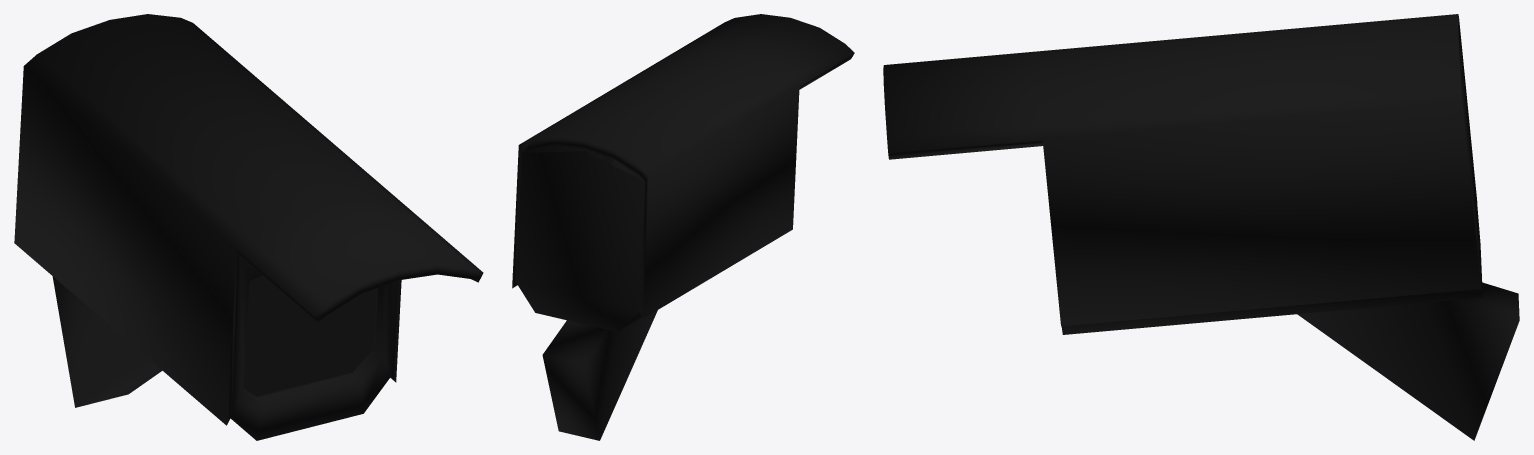
The model's file is camera.glb.
3 renders of one model, left to right at view 1: azimuth 30°, elevation 25°; view 2: azimuth 150°, elevation 25°; view 3: azimuth 270°, elevation 25°, orthographic. The views are drawn at different scales.
Visible parts, largest first — view 1: Cube.009; view 2: Cube.009; view 3: Cube.009.
Part boxes in pixels (left/top/right/bottom): Cube.009: left=14, top=14, right=483, bottom=440; Cube.009: left=512, top=14, right=854, bottom=440; Cube.009: left=883, top=14, right=1519, bottom=440.
Size of the model in its own units: 0.335 by 0.6866 by 1.
1 material, 1 textured.
